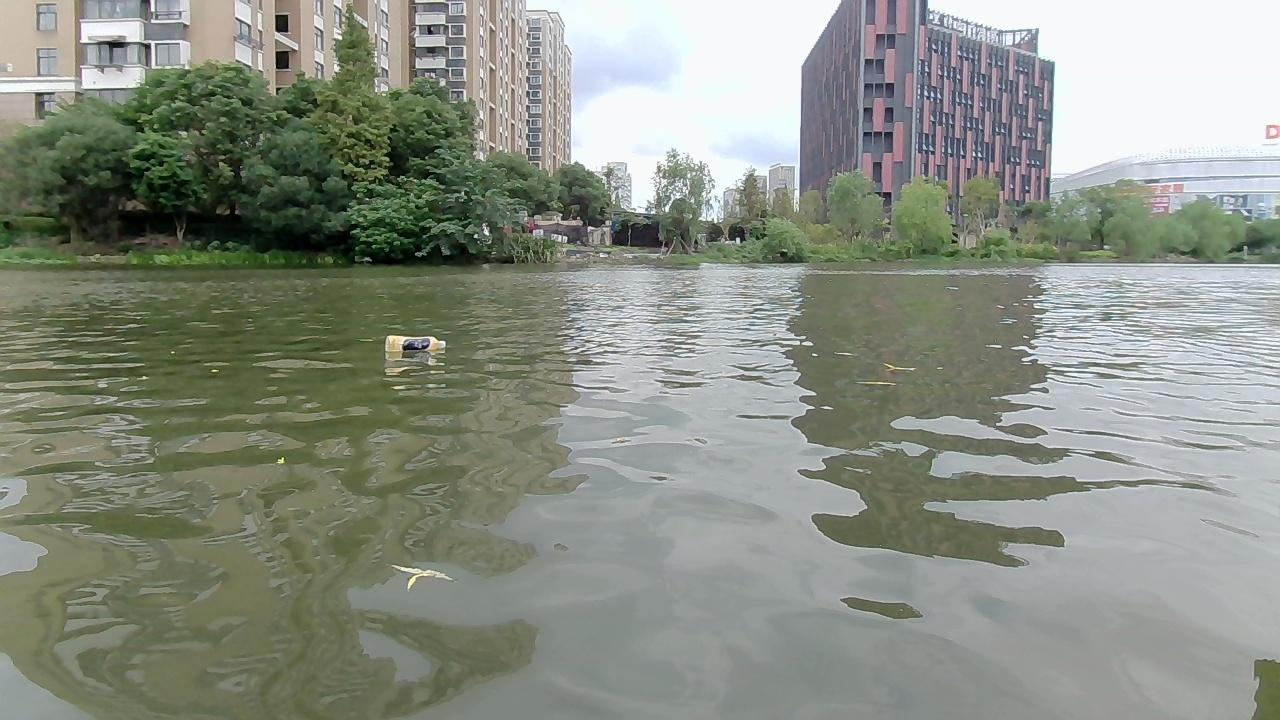bottle: (380, 330, 448, 358)
